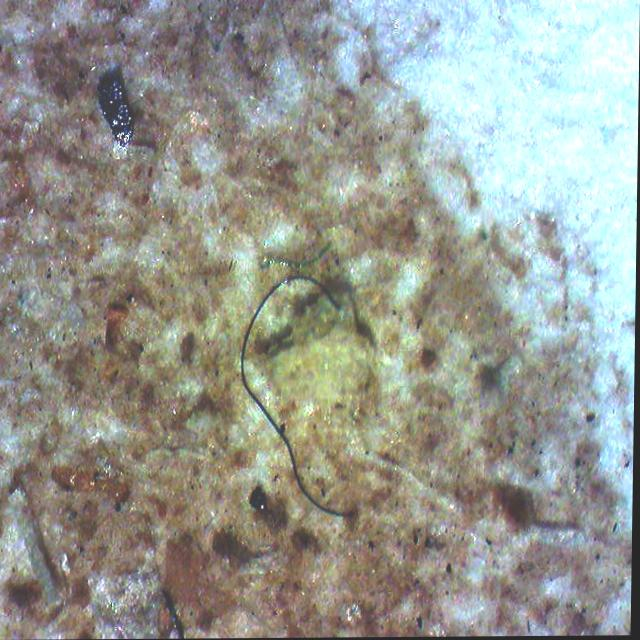microplastic: (242, 275, 358, 516)
